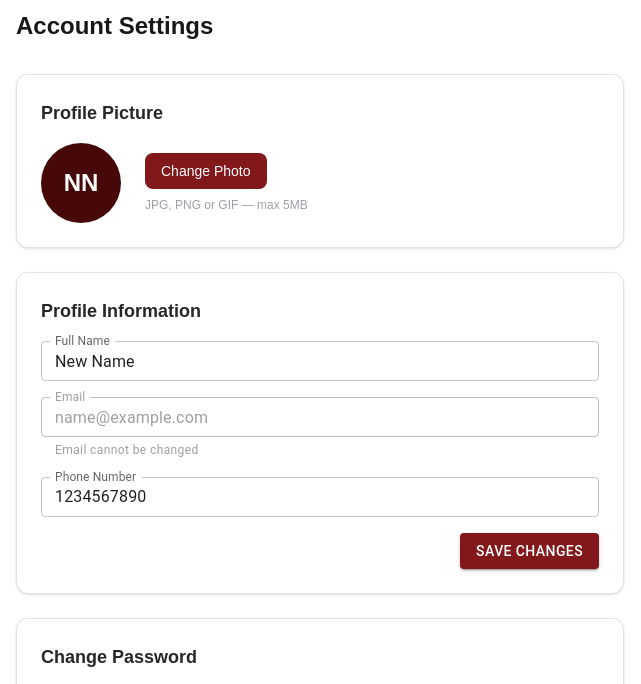
Test case: Account Settings › handles profile update failures gracefully
The image size is (641, 684).
Step 1. Type " Test" into the field labelled "Full Name" → (320, 361), box [41, 341, 599, 381]
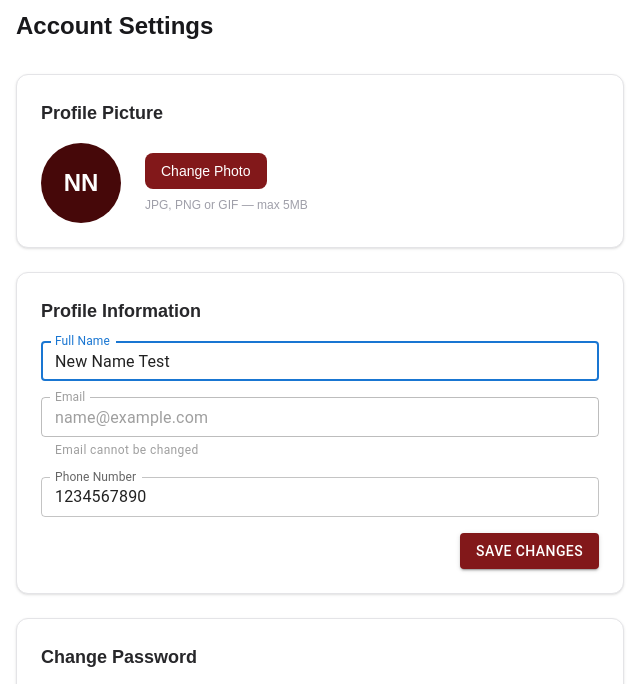
Step 2. Click the button "Save Changes" → (530, 551), box [460, 533, 599, 569]
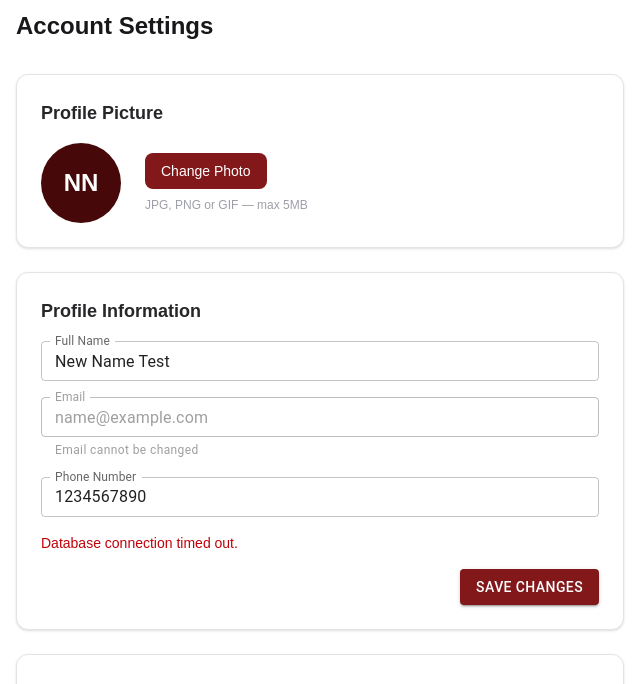
Result: the text "Database connection timed out." is shown at [41, 535, 238, 551]
